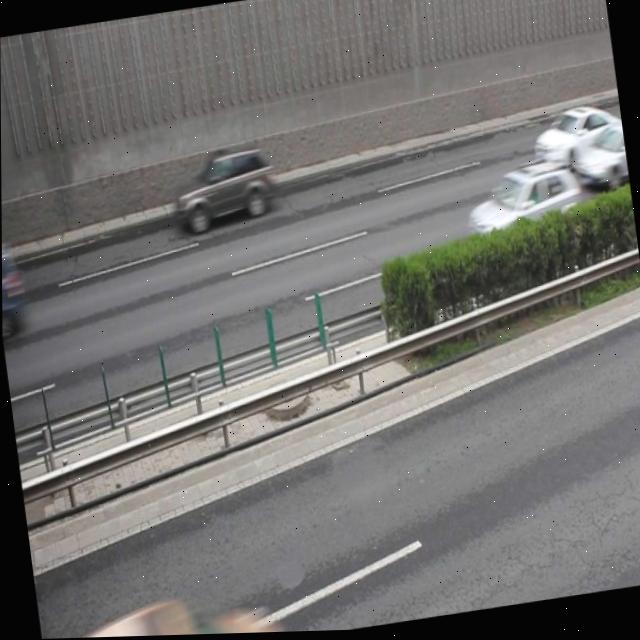car: (44, 579, 297, 639), (458, 154, 585, 261), (171, 142, 279, 238), (527, 100, 626, 181), (566, 124, 629, 195), (1, 237, 32, 339)
